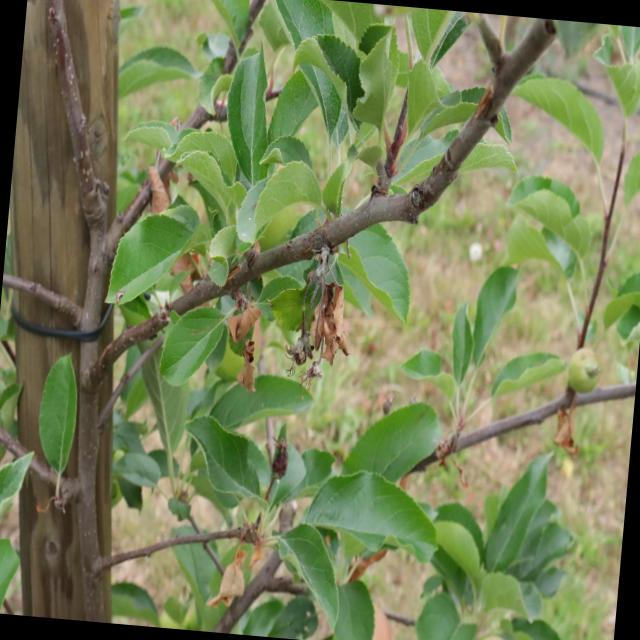-FireBlight-: (221, 286, 262, 395), (316, 262, 350, 366), (136, 175, 180, 238), (215, 536, 250, 612)
